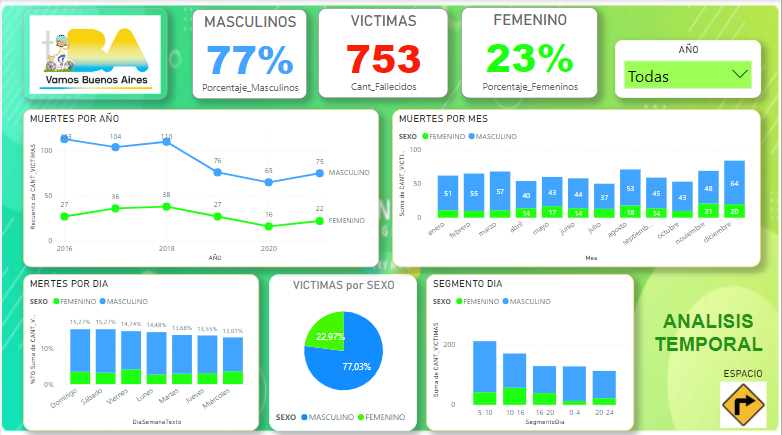

This screenshot's page, from the dashboard's own definition file:
{"tool":"powerbi","page":{"name":"TEMPORAL","canvas":[1280,720],"ordinal":1},"visuals":[{"type":"card","title":"MASCULINOS","fields":{"Values":["Medidas.Porcentaje_Masculinos"]},"box":[313,14.8,189.4,148.3],"z":1000},{"type":"card","title":"VICTIMAS","fields":{"Values":["Medidas.Cant_Fallecidos"]},"box":[519.2,13.1,213.6,147.9],"z":2000},{"type":"card","title":"FEMENINO","fields":{"Values":["Medidas.Porcentaje_Femeninos"]},"box":[754.2,11.5,225.1,149.5],"z":3000},{"type":"image","box":[35.3,13.5,237.2,149.7],"z":4000},{"type":"pieChart","title":"VICTIMAS por SEXO","fields":{"Y":["Sum(siniestros_t.CANT_VICTIMAS)"],"Category":["siniestros_t.SEXO"]},"box":[805,450.7,243.4,243.4],"z":5000},{"type":"lineChart","title":"MUERTES POR AÑO","fields":{"Category":["siniestros_t.AÑO"],"Series":["siniestros_t.SEXO"],"Y":["CountNonNull(siniestros_t.CANT_VICTIMAS)"]},"box":[34.5,179.1,585,259.6],"z":6000},{"type":"columnChart","title":"MUERTES POR MES","fields":{"Category":["siniestros_t.FECHA.Variación.Jerarquía de fechas.Mes"],"Series":["siniestros_t.SEXO"],"Y":["CountNonNull(siniestros_t.ID)"]},"box":[640.8,179.1,606.3,259.6],"z":7000},{"type":"columnChart","title":"MERTES POR DIA","fields":{"Category":["siniestros_t.DiaSemanaTexto"],"Series":["siniestros_t.SEXO"],"Y":["Sum(siniestros_t.CANT_VICTIMAS)"]},"box":[34.6,450.7,387.4,243.4],"z":8000},{"type":"barChart","title":"SEGMENTO DIA","fields":{"Category":["siniestros_t.SegmentoDia"],"Y":["Sum(siniestros_t.CANT_VICTIMAS)"],"Series":["siniestros_t.SEXO"]},"box":[447.8,450.7,341.3,243.4],"z":9000},{"type":"slicer","title":"AÑO","fields":{"Values":["siniestros_t.AÑO"]},"box":[1007.2,65.7,239.9,95.3],"z":10000},{"type":"textbox","box":[1061.5,488,198.8,220.2],"z":10500},{"type":"image","title":"ESPACIO","box":[1155.1,603,124.9,105.2],"z":11000}]}

Visuals, with their boxes in screenshot pixels (x1, y1, x2, y2), scaled from the page's 1280x720 canvas onto the 782x435 screenshot:
"MASCULINOS" card: x1=191 y1=9 x2=307 y2=99
"VICTIMAS" card: x1=317 y1=8 x2=448 y2=97
"FEMENINO" card: x1=461 y1=7 x2=598 y2=97
image: x1=22 y1=8 x2=166 y2=99
"VICTIMAS por SEXO" pieChart: x1=492 y1=272 x2=641 y2=419
"MUERTES POR AÑO" lineChart: x1=21 y1=108 x2=378 y2=265
"MUERTES POR MES" columnChart: x1=391 y1=108 x2=762 y2=265
"MERTES POR DIA" columnChart: x1=21 y1=272 x2=258 y2=419
"SEGMENTO DIA" barChart: x1=274 y1=272 x2=482 y2=419
"AÑO" slicer: x1=615 y1=40 x2=762 y2=97
textbox: x1=649 y1=295 x2=770 y2=428
"ESPACIO" image: x1=706 y1=364 x2=781 y2=428
